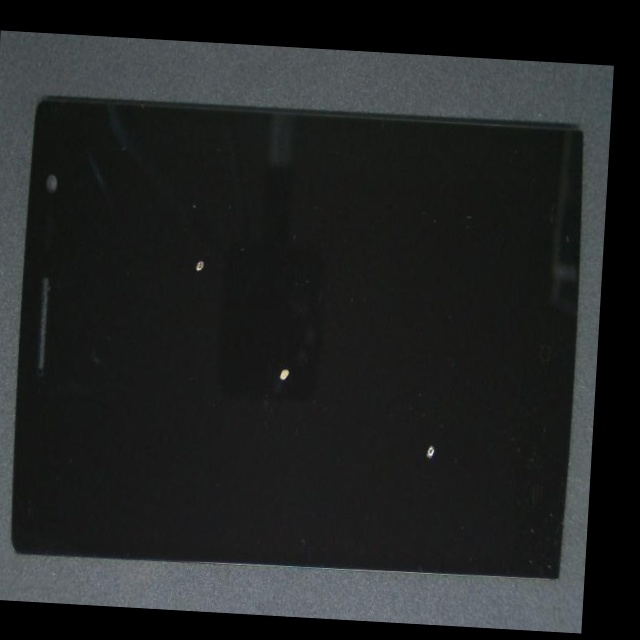stain: (160, 204, 605, 634), (98, 164, 431, 567), (55, 136, 307, 409)
